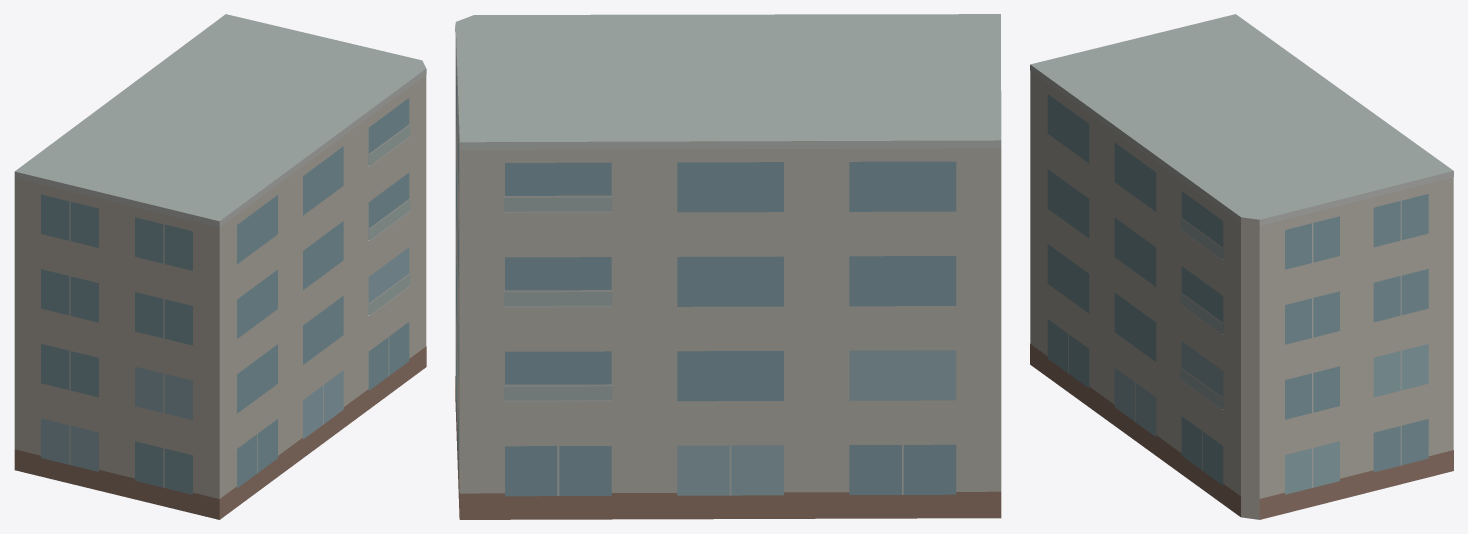
Rendered from survey-upis-32893734.glb.
The picture shows the model from 3 angles, left to right: view 1: azimuth 30°, elevation 25°; view 2: azimuth 150°, elevation 25°; view 3: azimuth 270°, elevation 25°; orthographic projection. The views are drawn at different scales.
Parts seen in each view (by area): view 1: survey-upis-32893734.tmp; view 2: survey-upis-32893734.tmp; view 3: survey-upis-32893734.tmp.
Boxes of the visible parts, x1=… form: survey-upis-32893734.tmp: x1=14, y1=14, x2=426, y2=519; survey-upis-32893734.tmp: x1=455, y1=14, x2=1001, y2=519; survey-upis-32893734.tmp: x1=1030, y1=14, x2=1453, y2=519.
Bounding box in the file's own units: 17.22 × 11.7 × 14.98.
